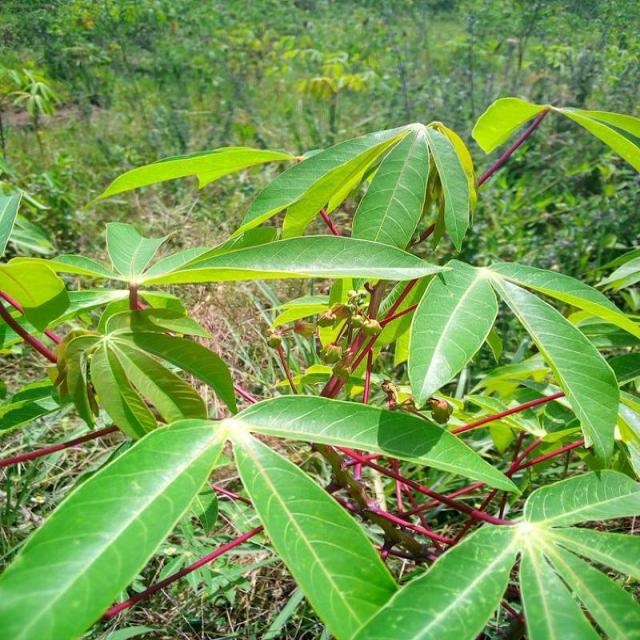cassava leaf: (1, 97, 638, 638), (0, 416, 226, 638), (230, 428, 399, 638), (486, 264, 620, 466)
